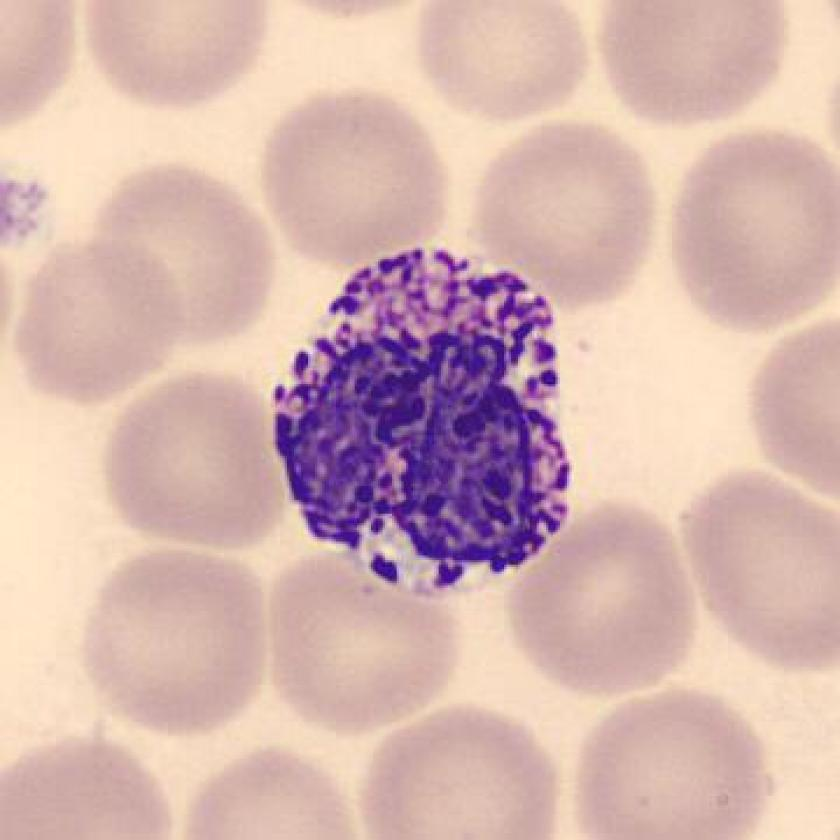basophil: (269, 239, 580, 605)
